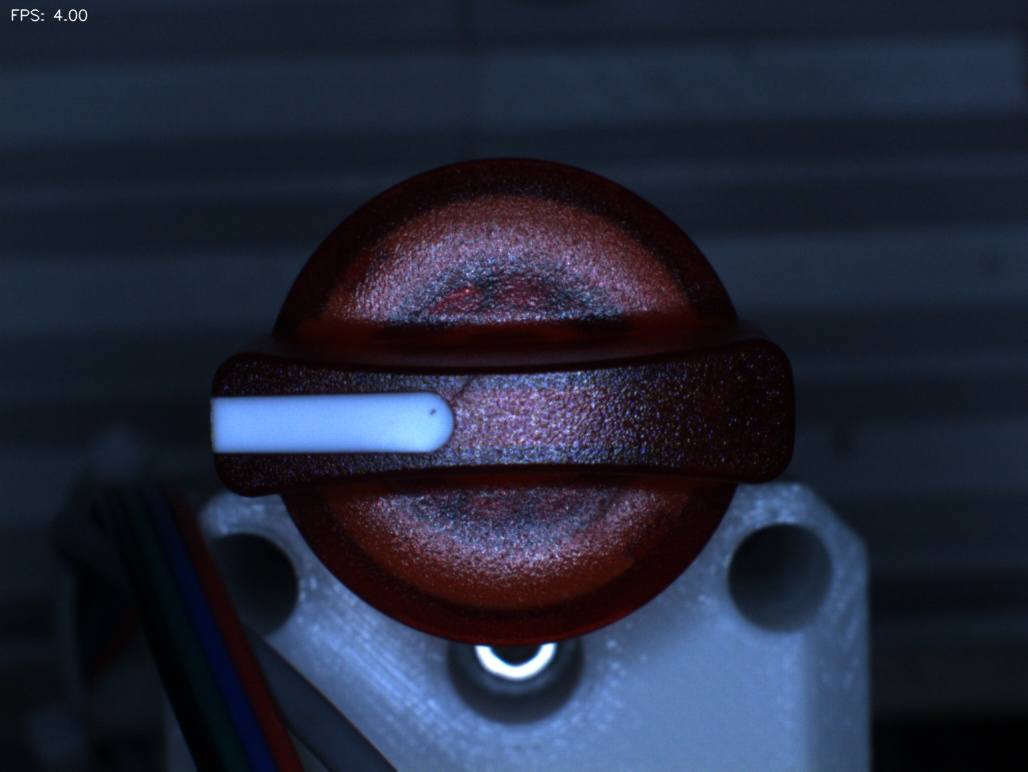PointNoir: (400, 387, 462, 453)
